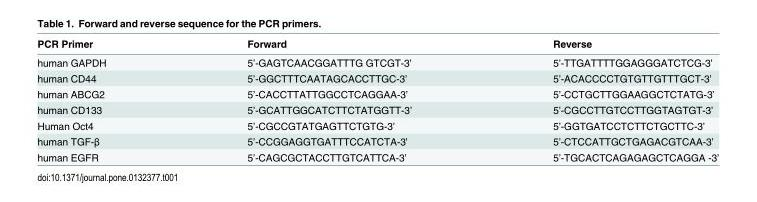table: (36, 37, 718, 162)
table column: (176, 37, 481, 162), (481, 37, 718, 162), (36, 37, 176, 162)
table column header: (36, 37, 718, 52)
table row: (36, 52, 718, 70), (36, 85, 718, 101), (36, 101, 718, 117), (36, 117, 718, 133), (36, 37, 718, 52), (36, 70, 718, 85), (36, 133, 718, 148), (36, 148, 718, 162)
